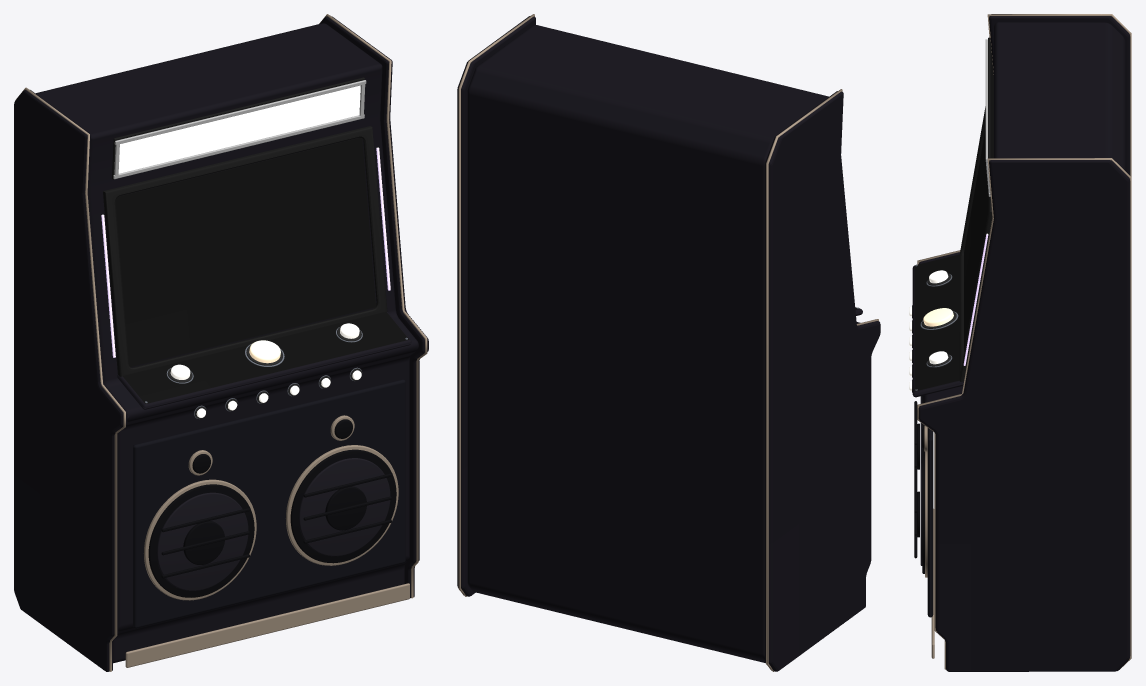
Rendered from mach-lowlight.glb.
3 views of the same model, side by side, from view 1: azimuth 30°, elevation 25°; view 2: azimuth 150°, elevation 25°; view 3: azimuth 270°, elevation 25° (orthographic). The views are drawn at different scales.
Parts seen in each view (by area): view 1: body, side_art_l, screen, glass, speaker, controls, metal, deck_art, marquee, trim, side_art_r, start_0; view 2: body, side_art_l, trim, side_art_r; view 3: side_art_r, body, deck_art, trim, controls, glass, screen, speaker, metal, start_0.
Part boxes in pixels (bbox=[...]): body: bbox=[14, 16, 428, 671]; side_art_l: bbox=[14, 16, 423, 671]; screen: bbox=[115, 137, 375, 367]; glass: bbox=[116, 138, 377, 367]; speaker: bbox=[143, 415, 398, 600]; controls: bbox=[103, 77, 411, 409]; metal: bbox=[113, 80, 409, 667]; deck_art: bbox=[122, 311, 409, 403]; marquee: bbox=[118, 85, 360, 173]; trim: bbox=[15, 14, 427, 671]; side_art_r: bbox=[31, 16, 428, 670]; start_0: bbox=[246, 340, 282, 365]; body: bbox=[457, 16, 879, 671]; side_art_l: bbox=[462, 16, 880, 671]; trim: bbox=[458, 14, 878, 671]; side_art_r: bbox=[457, 16, 837, 670]; side_art_r: bbox=[918, 16, 1129, 671]; body: bbox=[919, 16, 1130, 670]; deck_art: bbox=[914, 254, 959, 391]; trim: bbox=[917, 14, 1131, 669]; controls: bbox=[912, 37, 993, 397]; glass: bbox=[961, 121, 987, 364]; screen: bbox=[964, 129, 988, 351]; speaker: bbox=[914, 395, 927, 577]; metal: bbox=[931, 39, 990, 658]; start_0: bbox=[921, 308, 956, 330].
Size of the model in its own units: 1.02 by 1.65 by 0.6507.
20 materials, 4 textured.
